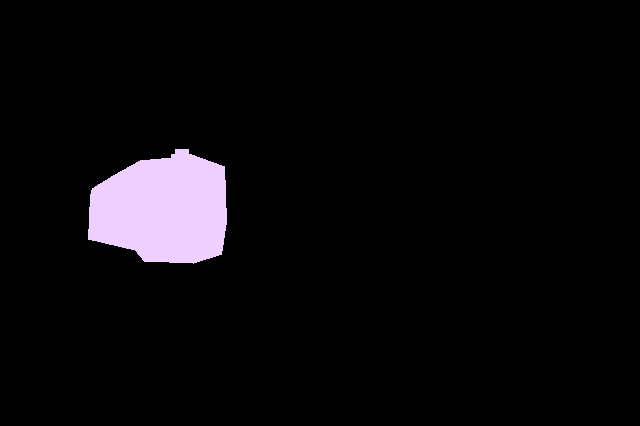Train: (88, 149, 226, 263)
